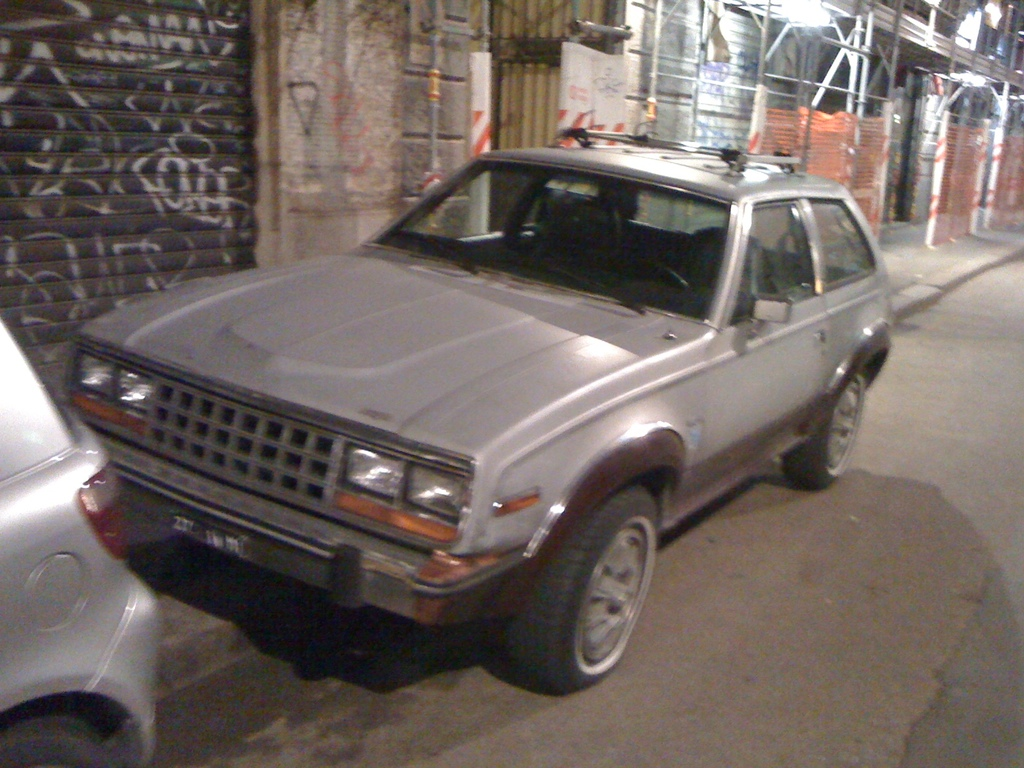Car: (64, 126, 901, 723), (0, 291, 160, 767)
